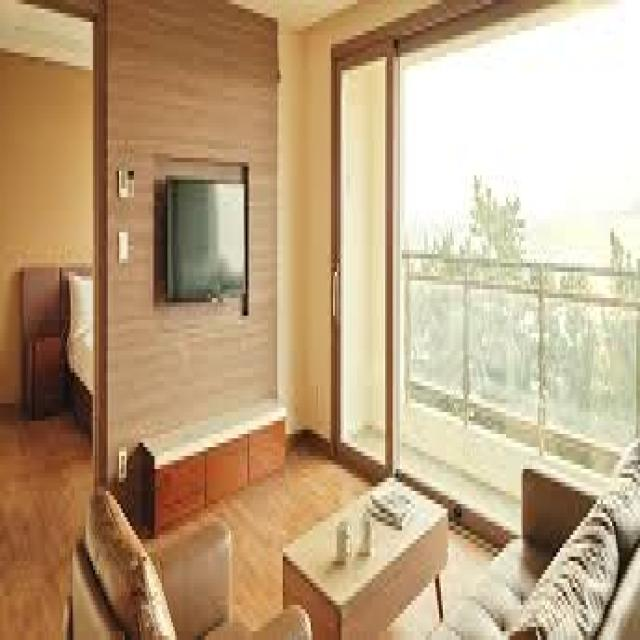Sofa: (461, 414, 640, 640), (67, 477, 298, 640)
Table: (280, 474, 450, 640)
tv: (162, 174, 250, 307)
window: (330, 44, 624, 458)
